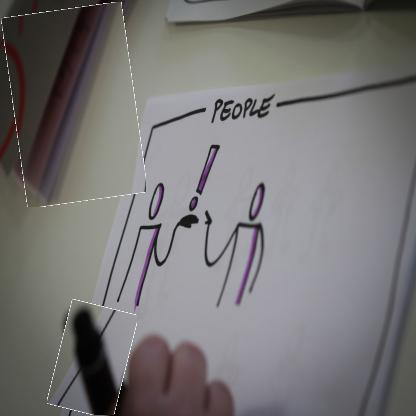Pen: (8, 6, 141, 205), (53, 302, 133, 415)
